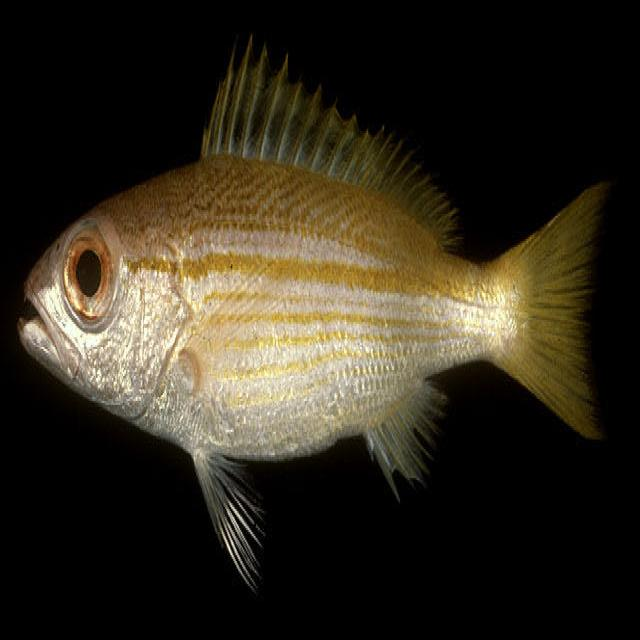ikan: (16, 29, 616, 594)
